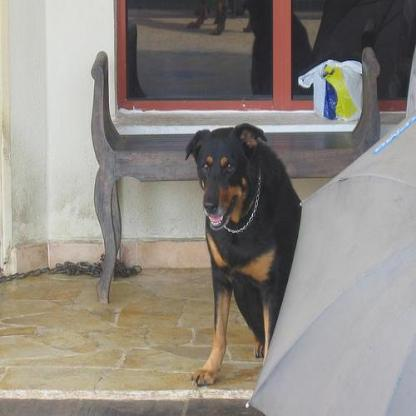Rottweiler: (181, 117, 304, 386)
